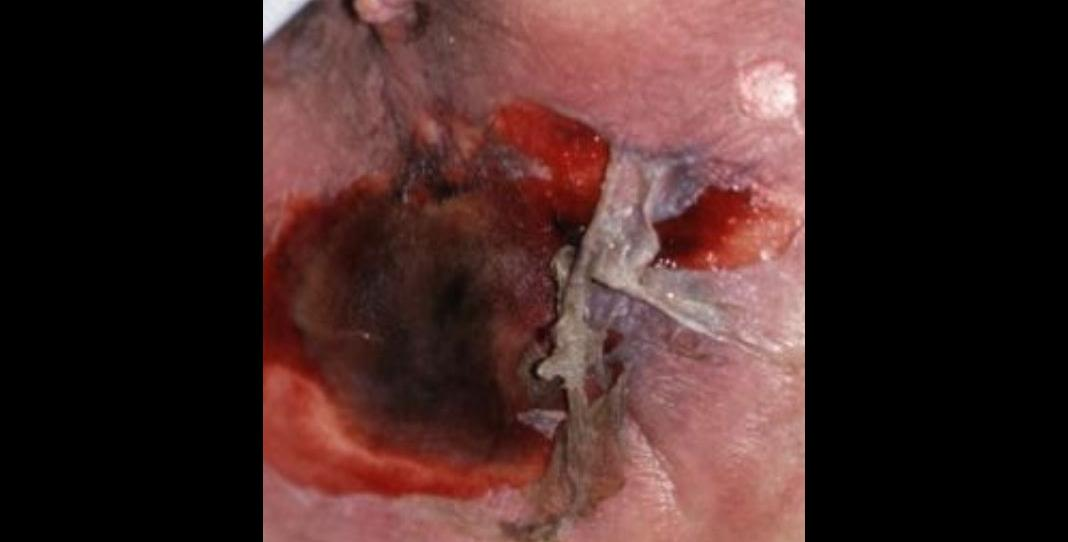Stage4: (263, 16, 805, 526)
